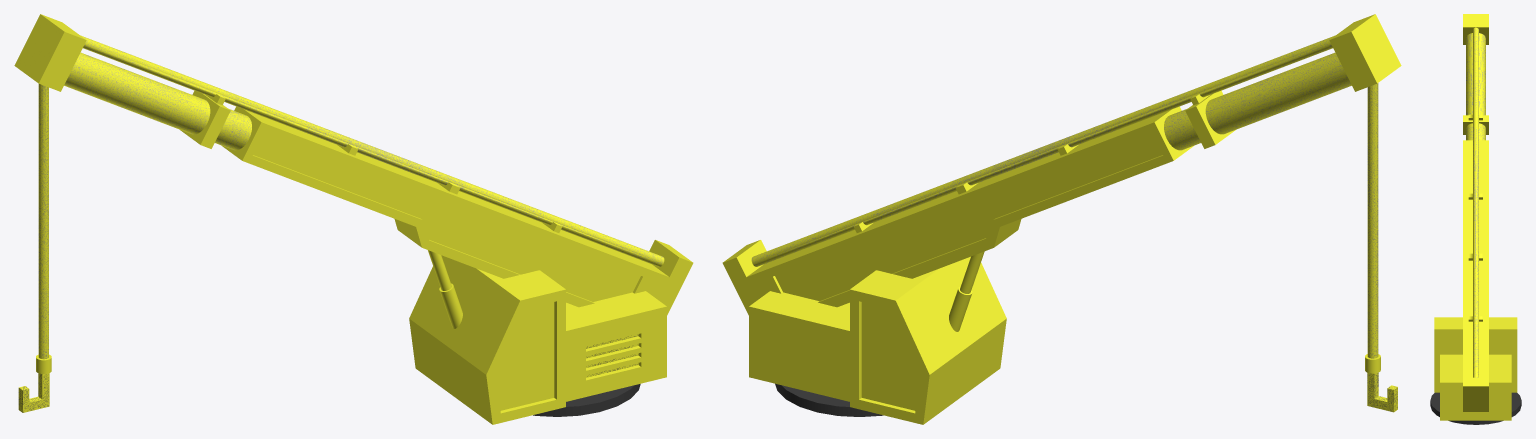
The model's file is truckcranearm.obj.
3 renders of one model, left to right at view 1: azimuth 30°, elevation 25°; view 2: azimuth 150°, elevation 25°; view 3: azimuth 270°, elevation 25°, orthographic. The views are drawn at different scales.
Parts seen in each view (by area): view 1: Mesh1 Group2 Group1 Model, Mesh5 Group6 Group1 Model, Mesh3 Group4 Group1 Model, Mesh2 Group3 Group1 Model, Mesh4 Group5 Group1 Model; view 2: Mesh1 Group2 Group1 Model, Mesh5 Group6 Group1 Model, Mesh3 Group4 Group1 Model, Mesh2 Group3 Group1 Model, Mesh4 Group5 Group1 Model; view 3: Mesh1 Group2 Group1 Model, Mesh5 Group6 Group1 Model, Mesh2 Group3 Group1 Model.
Part boxes in pixels (x1,y1,x2,y2): Mesh1 Group2 Group1 Model: [14, 14, 693, 315]; Mesh5 Group6 Group1 Model: [409, 255, 666, 424]; Mesh3 Group4 Group1 Model: [18, 84, 51, 412]; Mesh2 Group3 Group1 Model: [533, 384, 640, 416]; Mesh4 Group5 Group1 Model: [428, 250, 462, 328]; Mesh1 Group2 Group1 Model: [722, 14, 1401, 315]; Mesh5 Group6 Group1 Model: [749, 256, 1006, 424]; Mesh3 Group4 Group1 Model: [1365, 83, 1397, 412]; Mesh2 Group3 Group1 Model: [775, 383, 883, 416]; Mesh4 Group5 Group1 Model: [949, 251, 984, 331]; Mesh1 Group2 Group1 Model: [1463, 14, 1488, 411]; Mesh5 Group6 Group1 Model: [1434, 317, 1517, 420]; Mesh2 Group3 Group1 Model: [1430, 392, 1521, 424].
Size of the model in its own units: 72.03 by 50.13 by 16.
